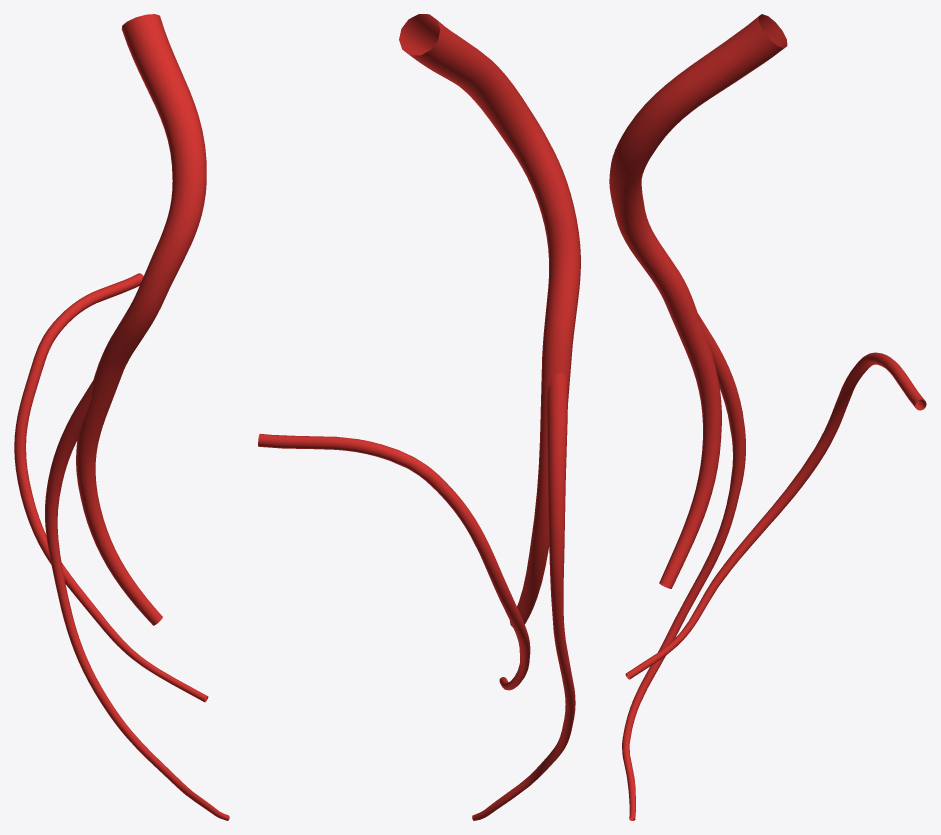
The model's file is circulatorio-superior-medial-genicular-artery-l.glb.
The picture shows the model from 3 angles, left to right: view 1: azimuth 30°, elevation 25°; view 2: azimuth 150°, elevation 25°; view 3: azimuth 270°, elevation 25°; orthographic projection. The views are drawn at different scales.
Parts seen in each view (by area): view 1: Superior medial genicular artery.l; view 2: Superior medial genicular artery.l; view 3: Superior medial genicular artery.l.
Boxes of the visible parts, left/top/right/bottom form: Superior medial genicular artery.l: left=14, top=14, right=229, bottom=820; Superior medial genicular artery.l: left=258, top=14, right=580, bottom=820; Superior medial genicular artery.l: left=609, top=14, right=926, bottom=820.
Bounding box in the file's own units: 0.0363 × 0.1444 × 0.0522.
